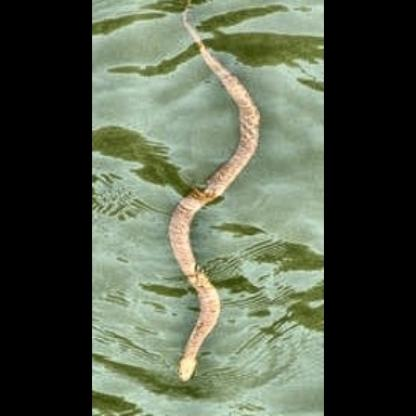Snake: (164, 9, 265, 384)
